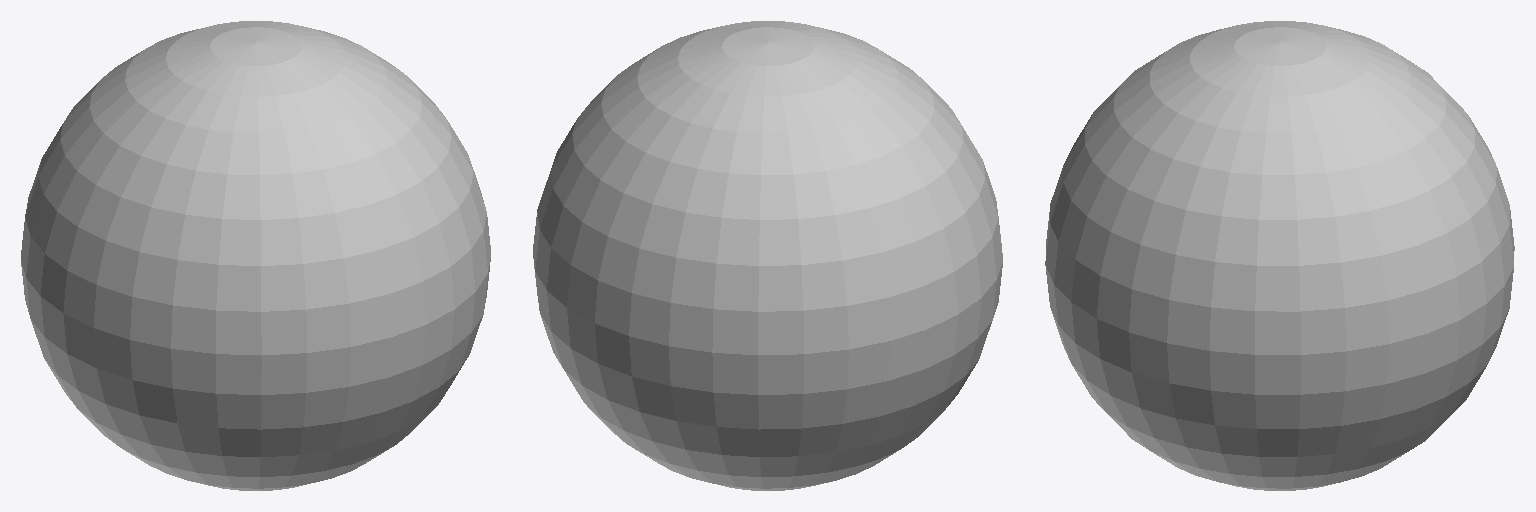
The model's file is mesh_bodyjoint_l3.obj.
The picture shows the model from 3 angles: view 1: azimuth 30°, elevation 25°; view 2: azimuth 150°, elevation 25°; view 3: azimuth 270°, elevation 25°; orthographic projection.
Parts seen in each view (by area): view 1: Sphere.013_Sphere.022; view 2: Sphere.013_Sphere.022; view 3: Sphere.013_Sphere.022.
Boxes of the visible parts, x1,y1,x2,y2 form: Sphere.013_Sphere.022: [21, 21, 490, 490]; Sphere.013_Sphere.022: [533, 21, 1002, 490]; Sphere.013_Sphere.022: [1045, 21, 1514, 490].
Bounding box in the file's own units: 0.2988 × 0.3 × 0.2988.